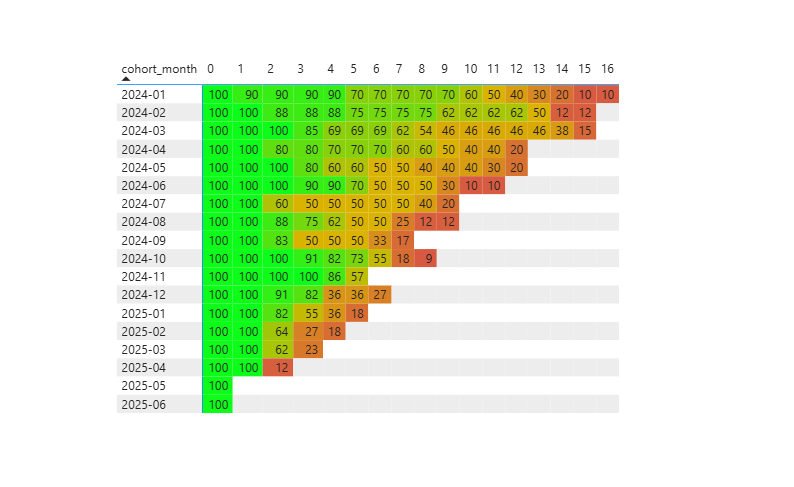

Layout of this report page (visuals, bound fields, positions):
{"tool":"powerbi","page":{"name":"Cohort_retention","canvas":[1280,720],"ordinal":2},"visuals":[{"type":"pivotTable","fields":{"Rows":["cohort_retention_long.cohort_month"],"Columns":["cohort_retention_long.cohort_index"],"Values":["Avg(cohort_retention_long.retention_pct)"]},"box":[354,113.9,572.2,413],"z":0}]}

Visuals, with their boxes on the page's 1280x720 design canvas (x1, y1, x2, y2). These are canvas units, not pixel positions in the 794x487 screenshot, which may show the page scaled, cropped or inside an application window:
pivotTable - cohort_retention_long.cohort_month x cohort_retention_long.cohort_index: x1=354, y1=114, x2=926, y2=527
